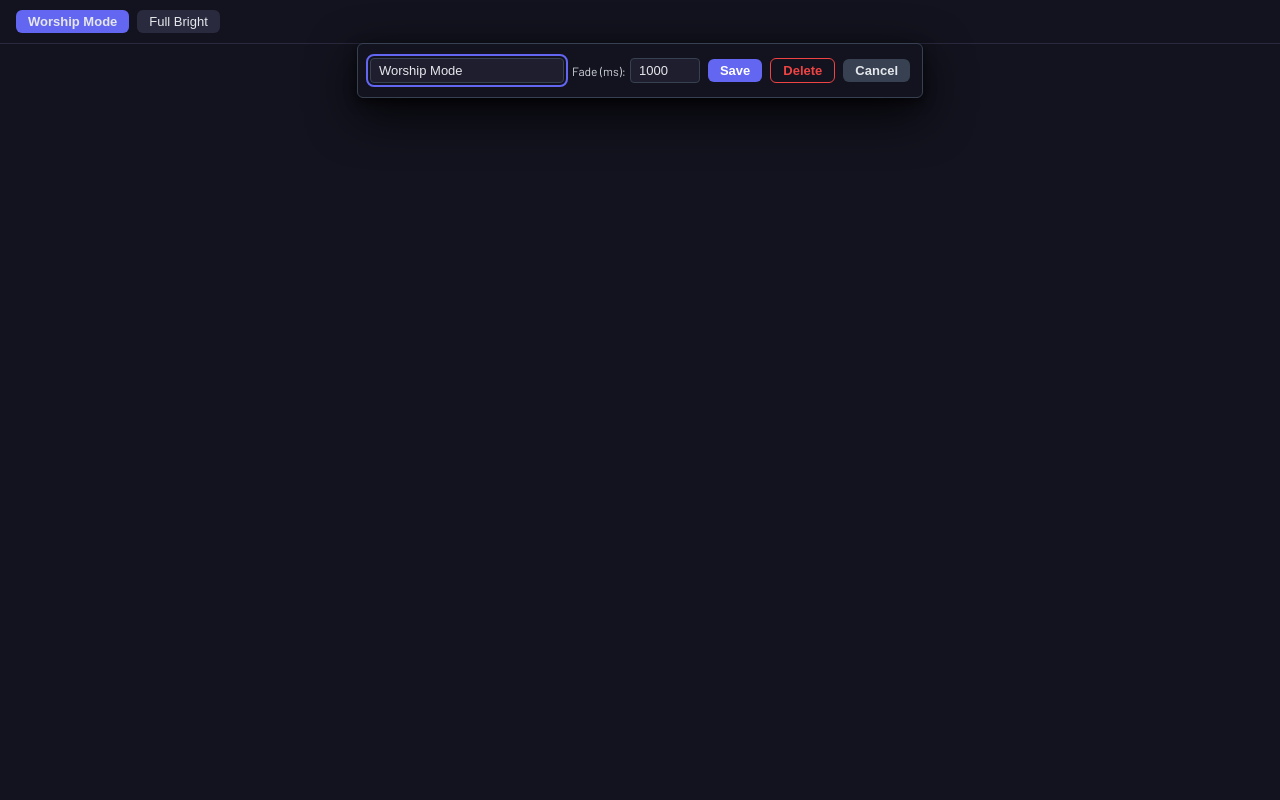
Test: ScenesStrip › shows a rename warning instead of saving when the rename would change the id
Replace the text in the field showing "Worship Mode" with "New Name". click: point(467, 70)
box: [370,58,564,83]
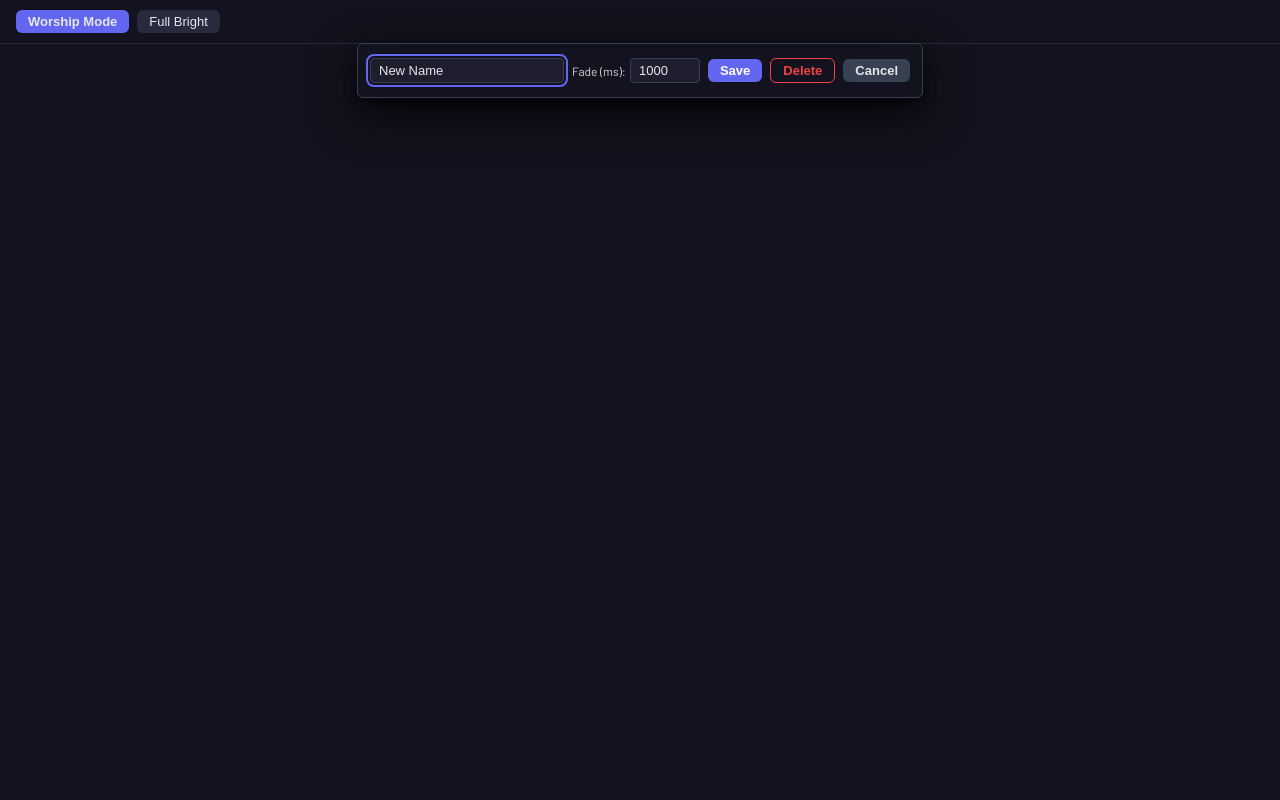
Click the button "Save". click: point(735, 70)
box: [708,59,762,82]
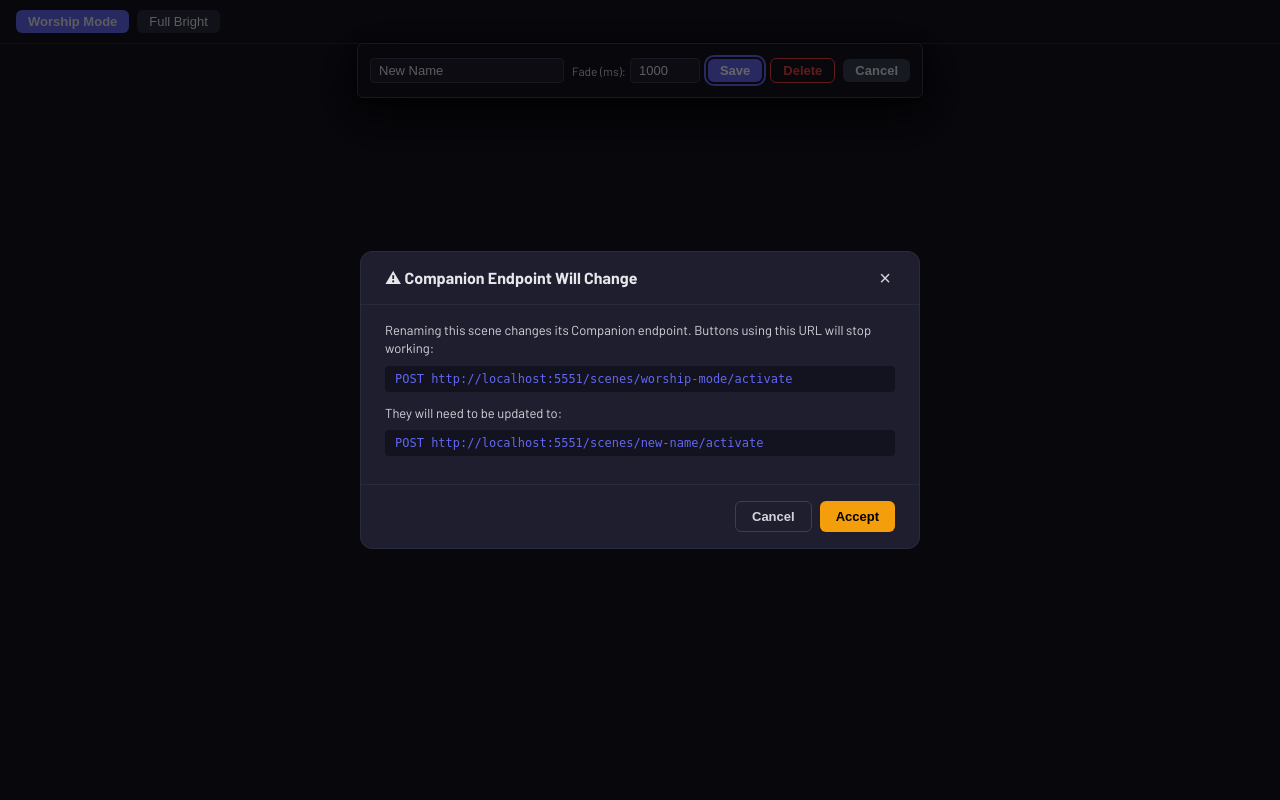
Now the text "⚠ Companion Endpoint Will Change" is shown, box [385,268,637,288]
Now the text "POST http://localhost:5551/scenes/worship-mode/activate" is shown, box [385,366,895,392]
Now the text "POST http://localhost:5551/scenes/new-name/activate" is shown, box [385,430,895,456]
